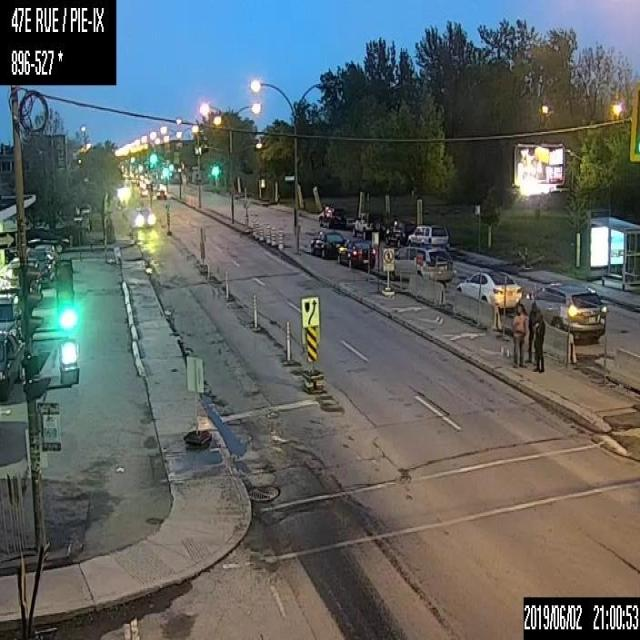construction: (185, 354, 212, 446), (284, 319, 290, 364), (252, 293, 258, 330), (224, 268, 228, 302), (270, 224, 276, 246), (279, 229, 284, 251), (254, 212, 258, 234), (266, 223, 270, 244), (258, 220, 262, 240)
pedestrian: (512, 302, 525, 368), (533, 310, 545, 374), (527, 296, 539, 360)
vehicle: (519, 280, 606, 344), (385, 242, 454, 280), (455, 269, 520, 309), (0, 262, 39, 302), (0, 334, 21, 397), (336, 238, 377, 269), (25, 248, 54, 288), (309, 228, 343, 260), (407, 224, 447, 251), (0, 293, 21, 336), (351, 212, 384, 236), (318, 206, 348, 230), (385, 219, 415, 243), (132, 206, 154, 227), (155, 188, 166, 200)
